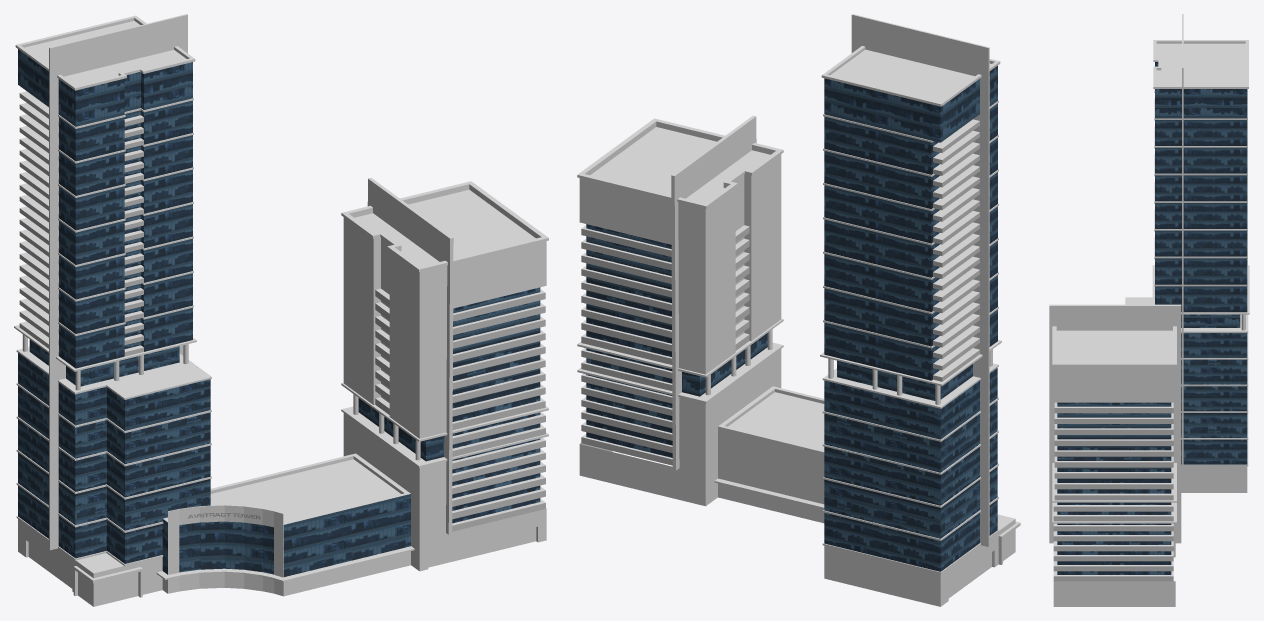
The model's file is AvstractTower_V2.fbx.
3 views of the same model, side by side, from view 1: azimuth 30°, elevation 25°; view 2: azimuth 150°, elevation 25°; view 3: azimuth 270°, elevation 25° (orthographic). The views are drawn at different scales.
Visible parts, largest first — view 1: AvstractTower_V2_LOD0; view 2: AvstractTower_V2_LOD0; view 3: AvstractTower_V2_LOD0.
Boxes of the visible parts, x1,y1,x2,y2 form: AvstractTower_V2_LOD0: (14,14,548,606); AvstractTower_V2_LOD0: (577,14,1020,606); AvstractTower_V2_LOD0: (1049,14,1249,606).
Size of what is drawn, in the model's own units: 12226 by 14954 by 6313.
